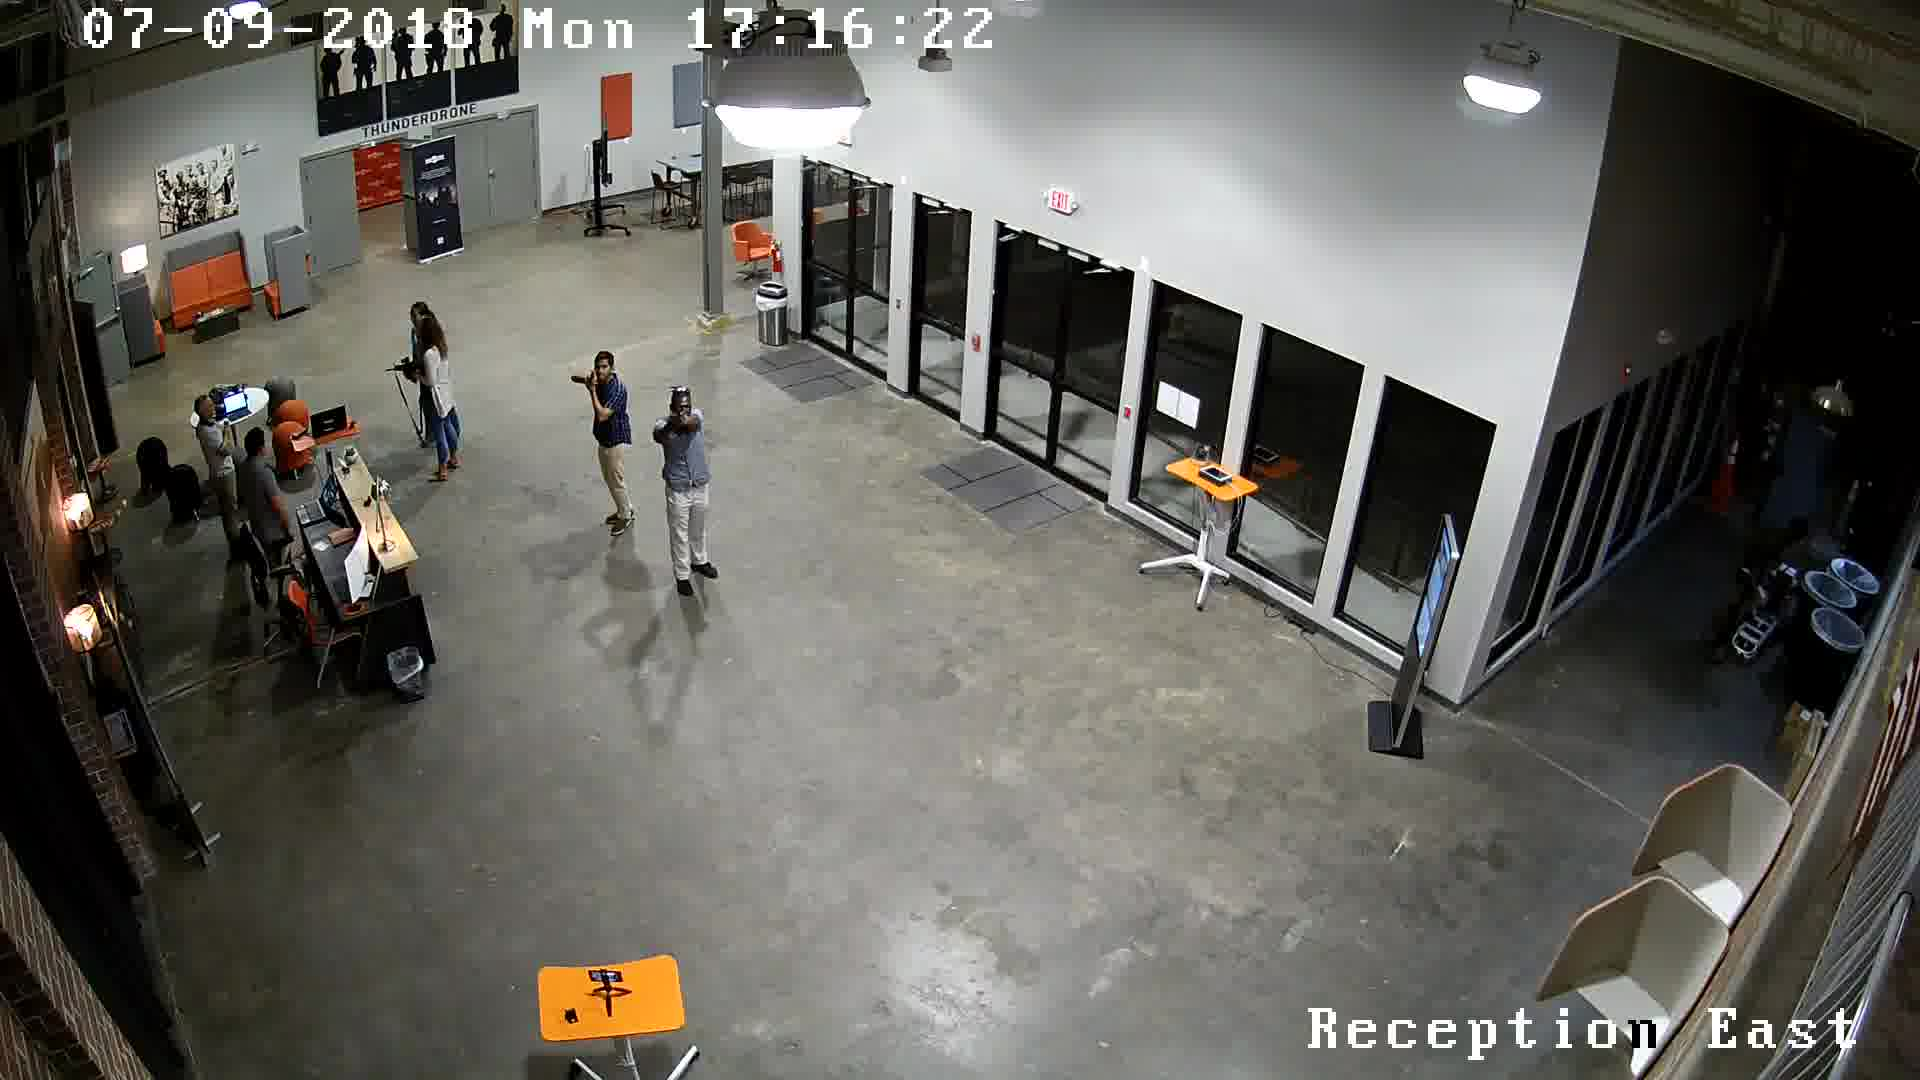pistol: (662, 402, 690, 440), (576, 367, 601, 397)
